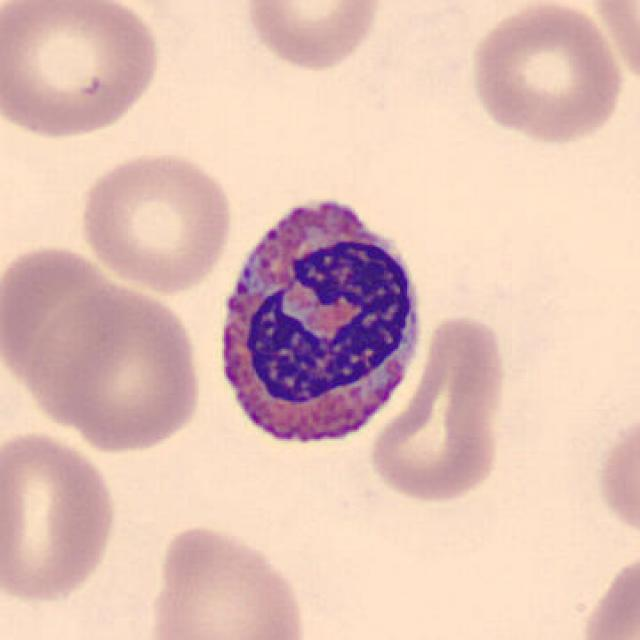Eosinophil: (202, 178, 434, 466)
RBC: (23, 280, 206, 455), (364, 308, 514, 508), (73, 146, 236, 296), (464, 0, 627, 146), (0, 0, 165, 144), (0, 245, 137, 409), (0, 427, 121, 608), (142, 520, 313, 640), (238, 0, 388, 74), (594, 404, 638, 550), (574, 543, 638, 640), (588, 0, 639, 93)
